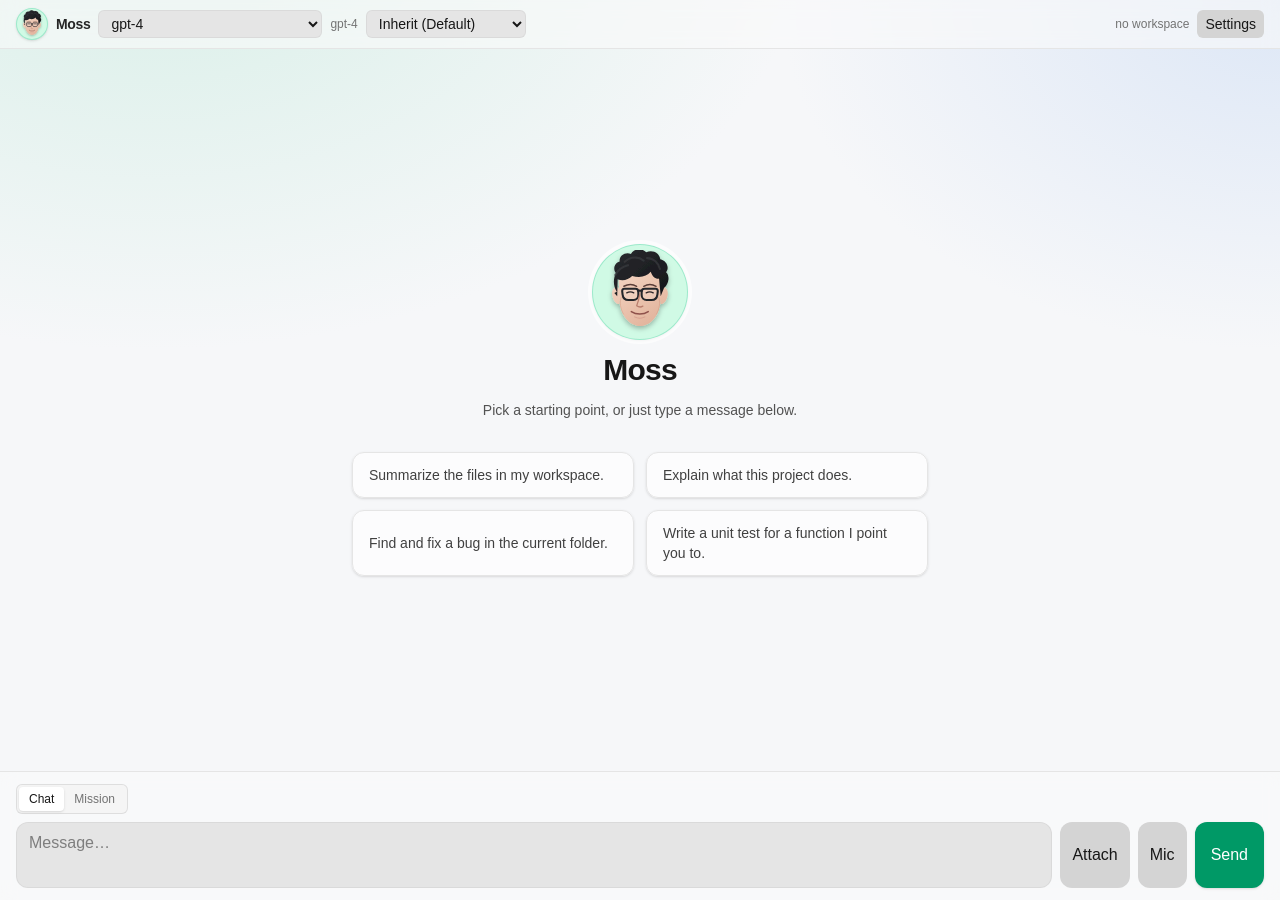
Scenario: ChatPanel › does not send when native mission authorization is cancelled
The image size is (1280, 900).
Click the button "Mission" at (95, 799), box 64,787 -> 125,811
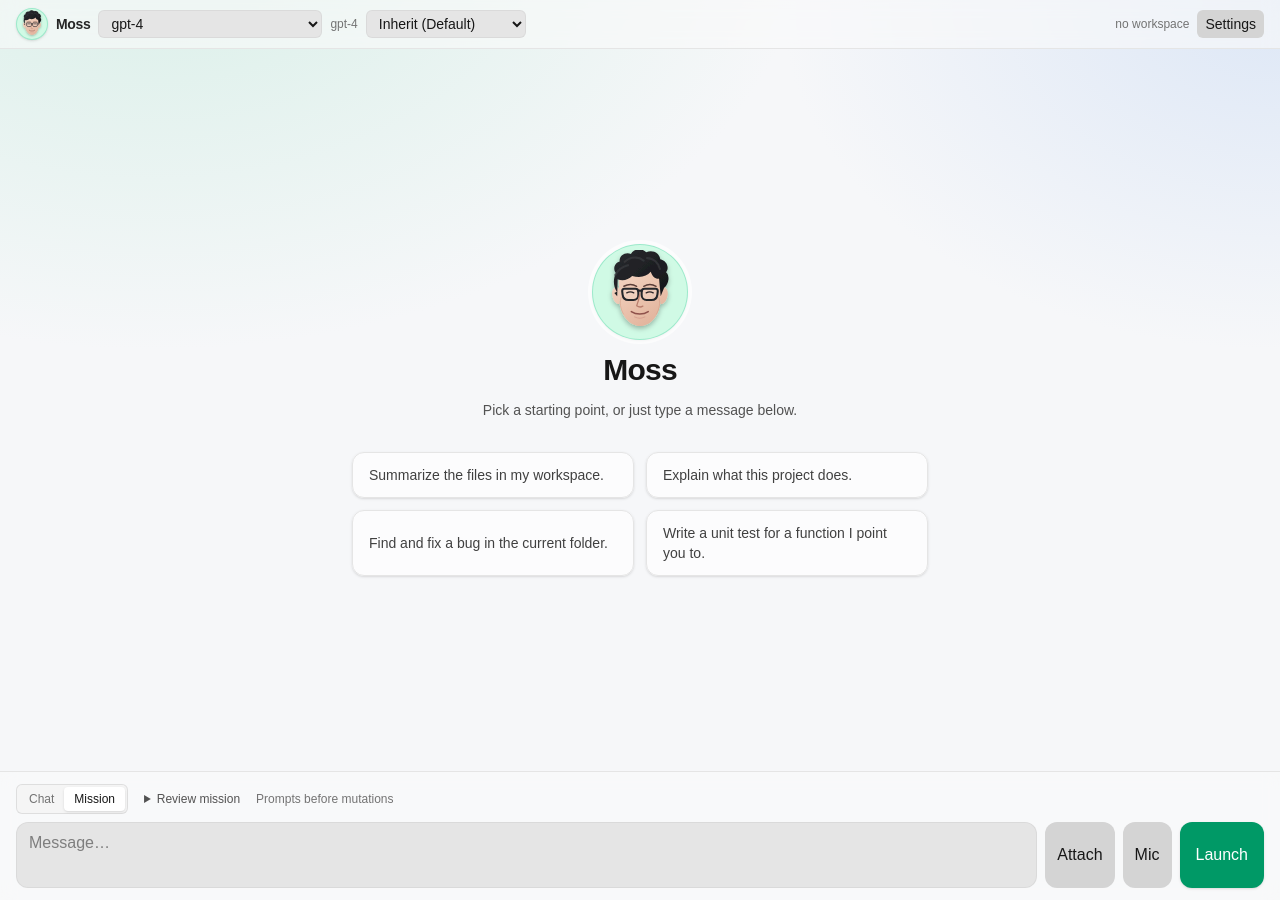
Click the heading "Review mission" at (198, 799), box 157,792 -> 240,806
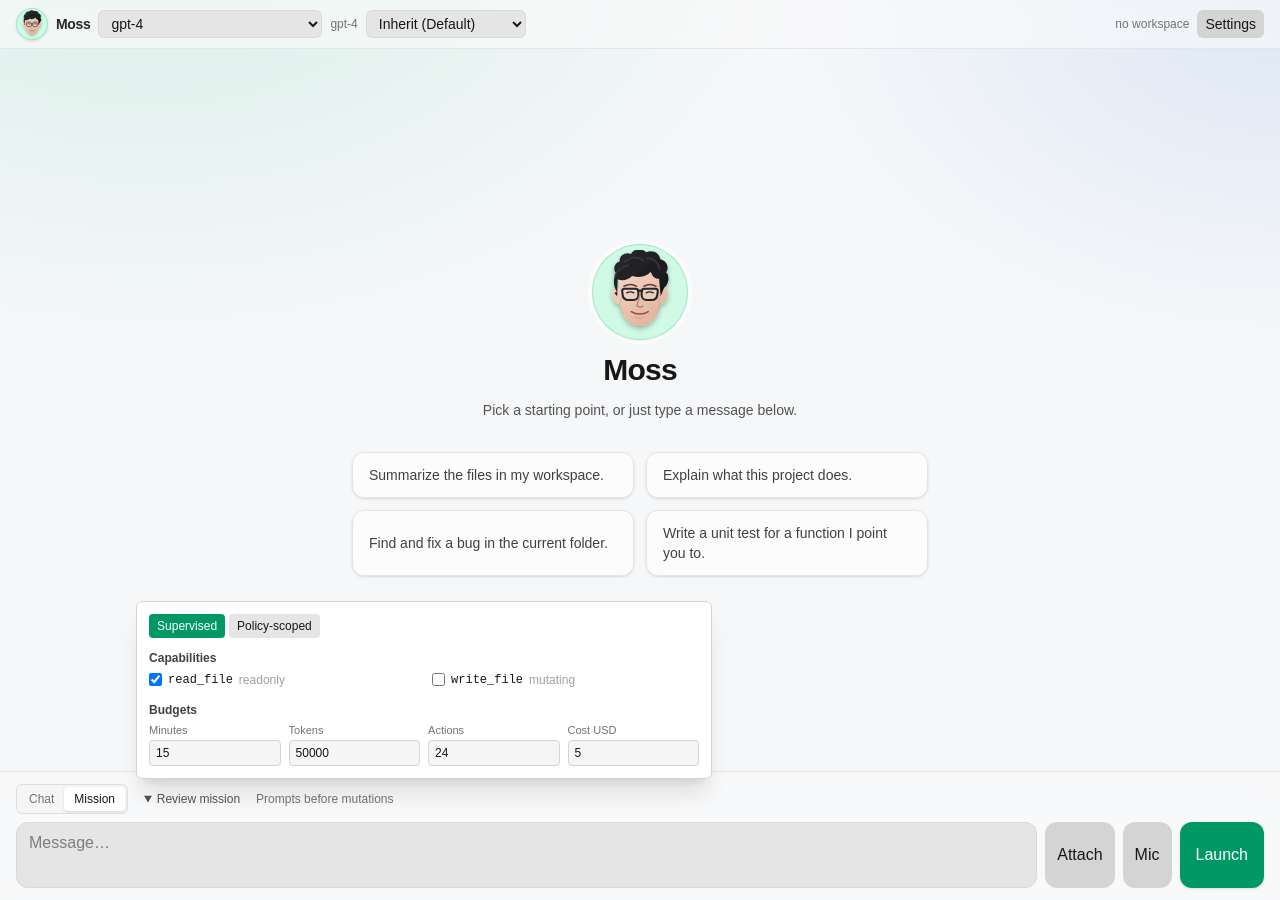
Click the button "Policy-scoped" at (274, 626), box 229,614 -> 320,638
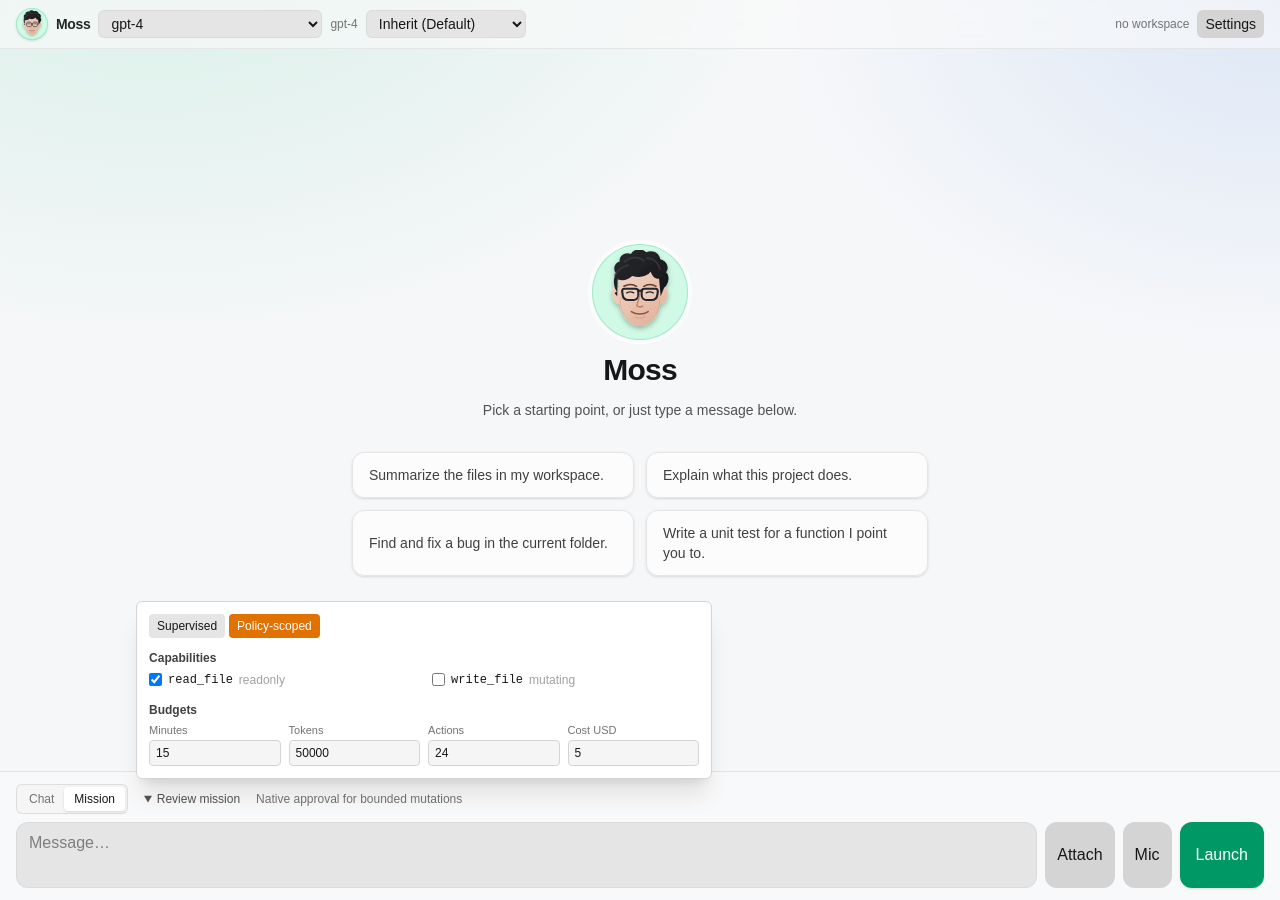
Type "Do not lose this draft" into the text box with placeholder "Message…" at (527, 855), box 16,822 -> 1037,888
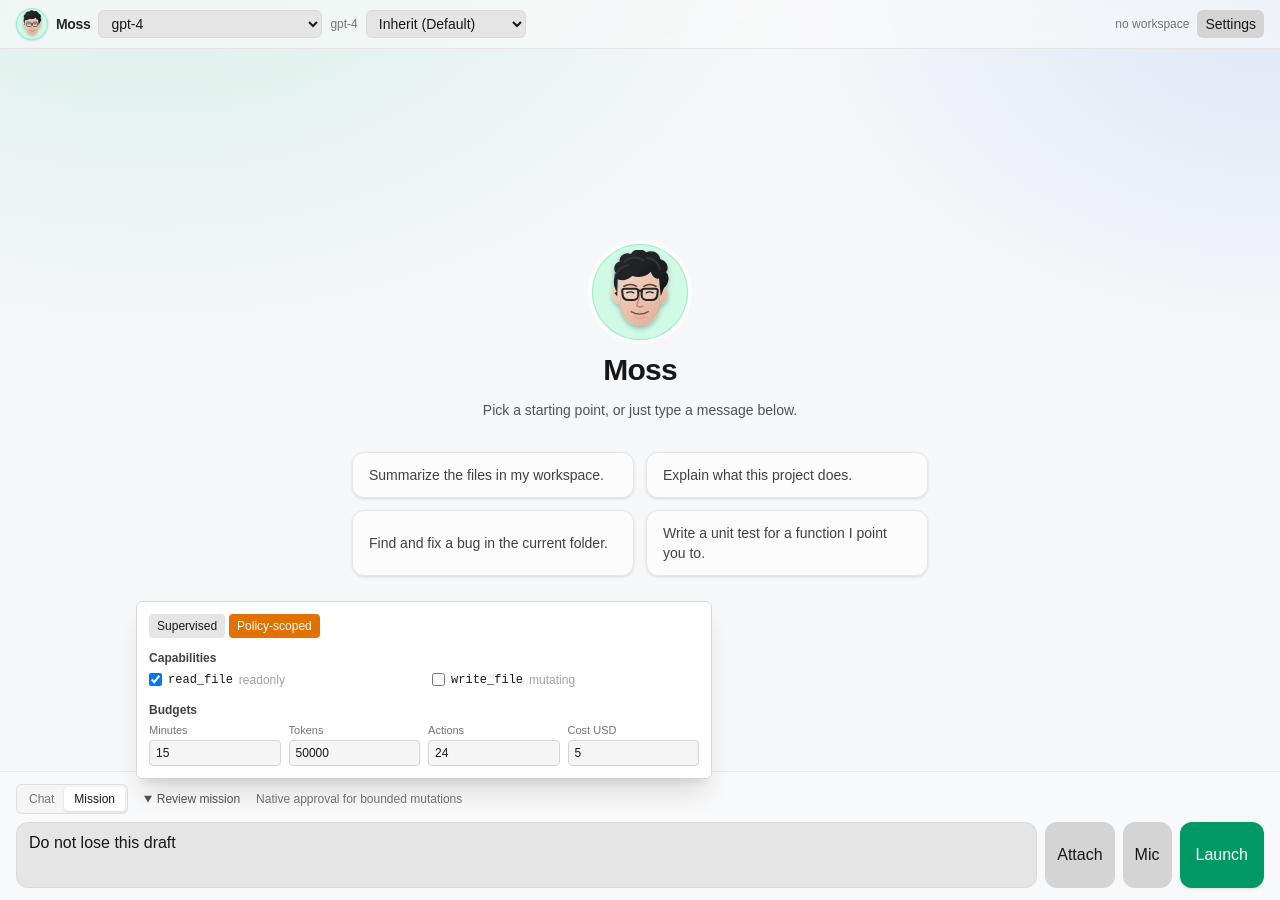
Click the button "Launch" at (1222, 855), box 1180,822 -> 1264,888
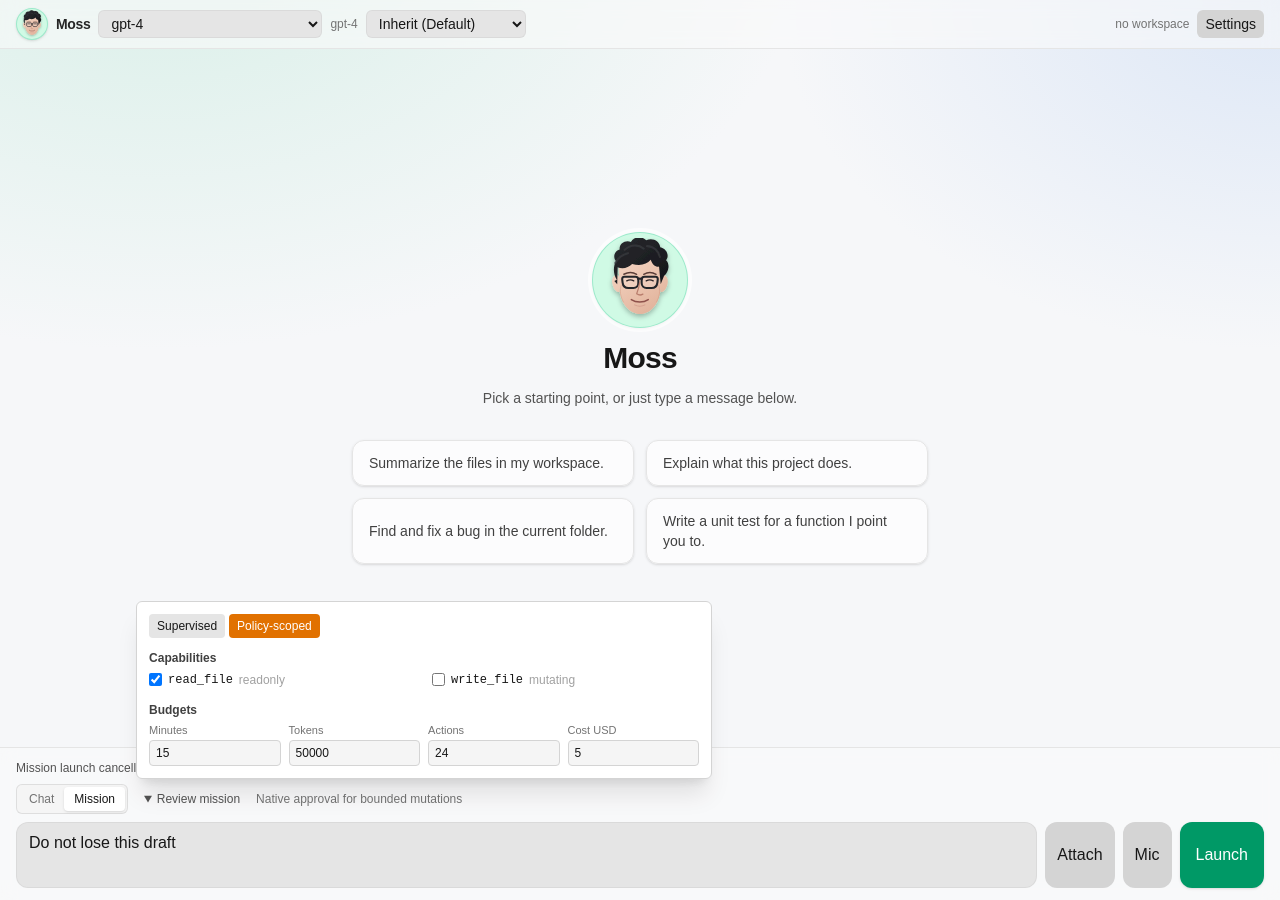
Expected: the text "Mission launch cancelled." is shown, 16,761 -> 153,775
